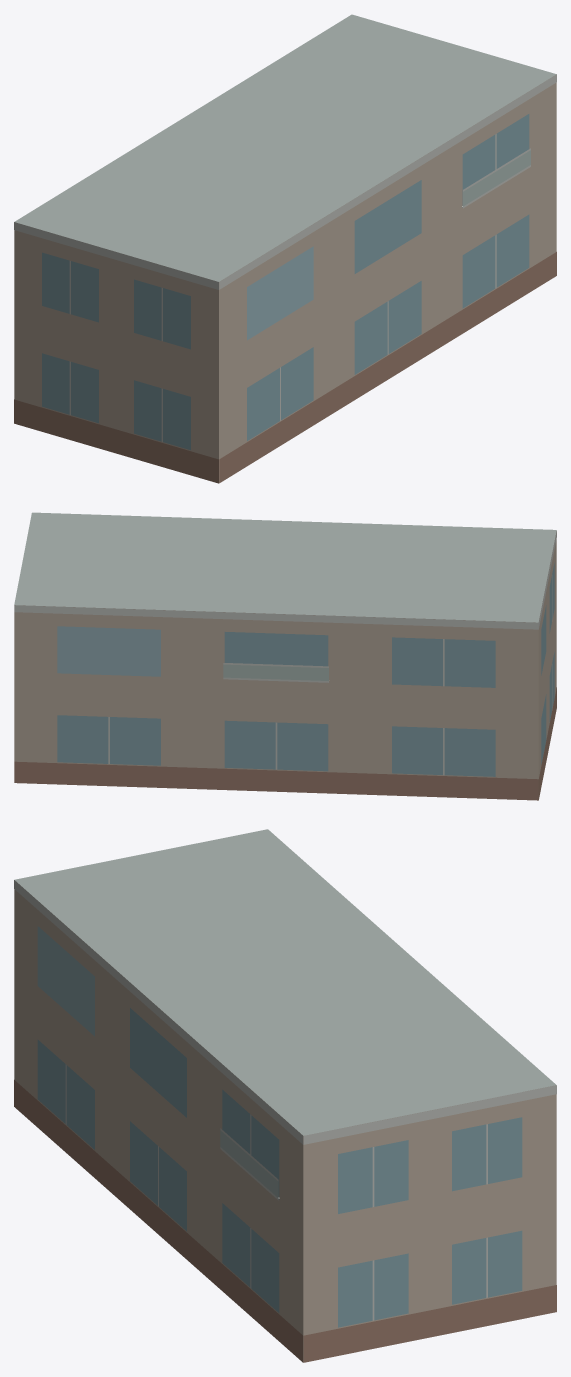
Rendered from survey-upis-33024148.glb.
3 views of the same model, one above another, from view 1: azimuth 30°, elevation 25°; view 2: azimuth 150°, elevation 25°; view 3: azimuth 270°, elevation 25° (orthographic). The views are drawn at different scales.
Parts seen in each view (by area): view 1: survey-upis-33024148.tmp; view 2: survey-upis-33024148.tmp; view 3: survey-upis-33024148.tmp.
Boxes of the visible parts, bbox=[...] form: survey-upis-33024148.tmp: bbox=[14, 14, 556, 483]; survey-upis-33024148.tmp: bbox=[14, 512, 556, 800]; survey-upis-33024148.tmp: bbox=[14, 829, 556, 1362].
Bounding box in the file's own units: 17.7 × 6.1 × 13.23.
